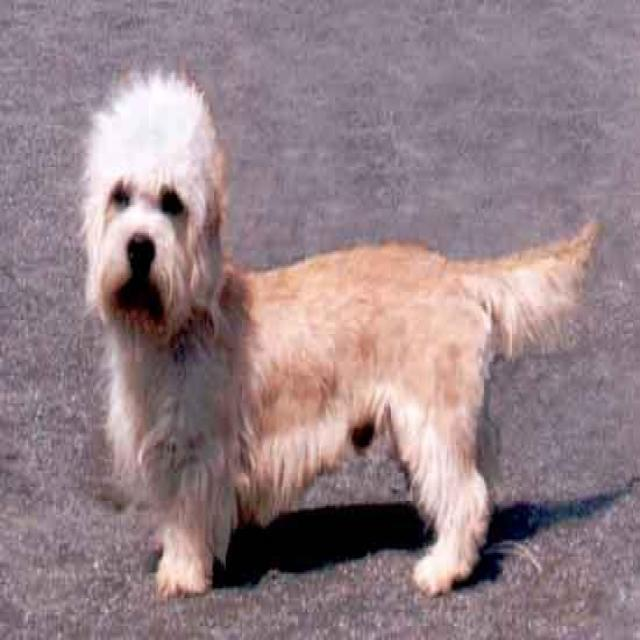dandie_dinmont: (79, 71, 608, 614)
